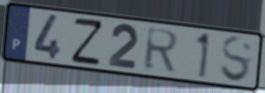1: (194, 32, 211, 80)
2: (107, 22, 141, 72)
4: (32, 12, 64, 62)
R: (143, 26, 182, 74)
S: (219, 35, 254, 85)
Z: (70, 16, 104, 67)
